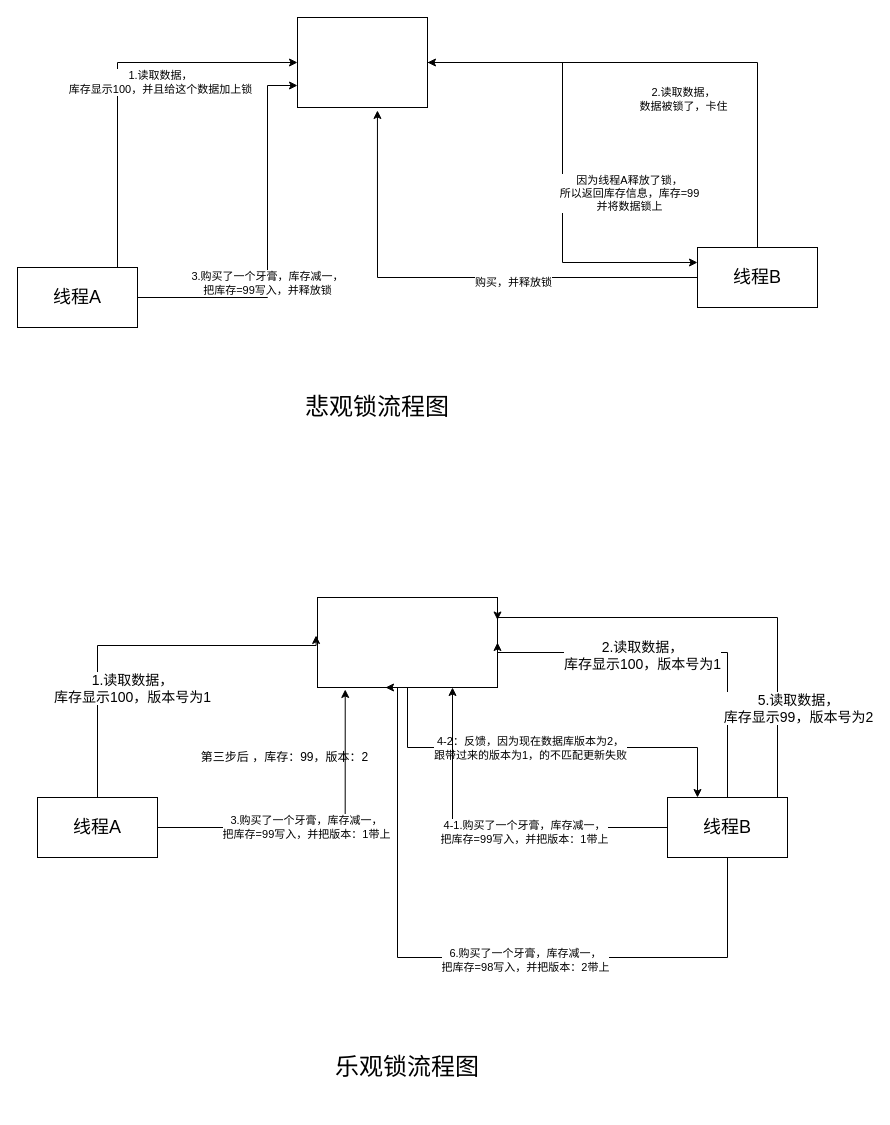
Some shapes in this 890 by 1125 pixel diagram are drawn without their labels. The centre of each missing label's shape, as x and y in pixels:
牙膏 100件: the point at 362,62
牙膏 100件 版本号：1: the point at 407,642
